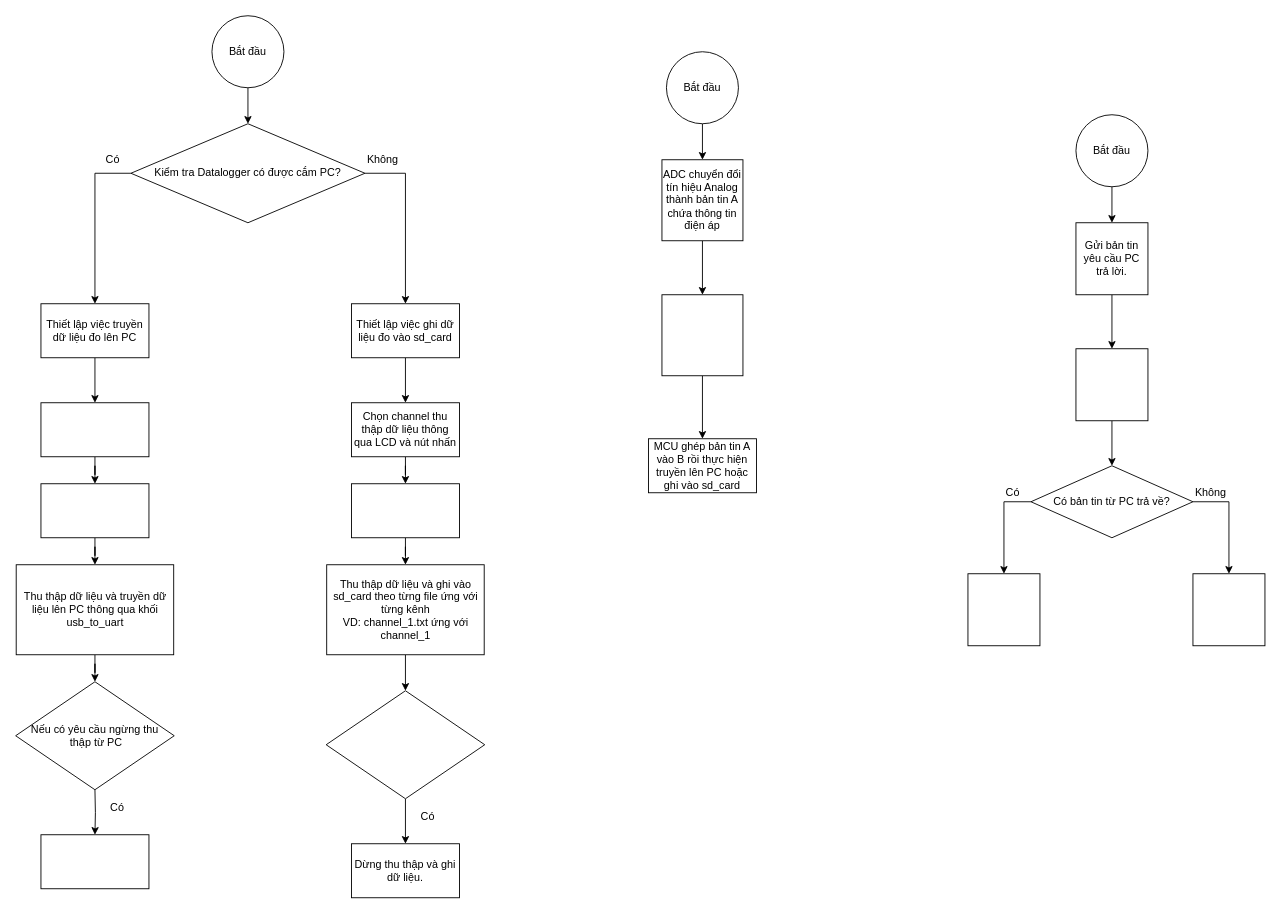
Some shapes in this 1282 by 914 pixel diagram are drawn without their labels. Each missing label, with the box of its shape:
Chọn channel thu thập dữ liệu thông qua phần mềm LabView hoặc LCD: (40, 402, 149, 457)
Dừng thu thập và truyền dữ liệu.: (40, 834, 149, 889)
MCU lấy bản tin B thời gian từ khối real_time_clock: (661, 294, 743, 376)
Nghe bản tin từ PC trả về: (1075, 348, 1148, 421)
Nếu có yêu cầu ngừng thu thập từ LCD.: (325, 690, 485, 799)
Thiết lập dải điện áp đầu vào thông qua LCD và nút nhấn: (351, 483, 459, 538)
Thiết lập dải điện áp đầu vào thông qua phần mềm LabView hoặc LCD: (40, 483, 149, 538)
